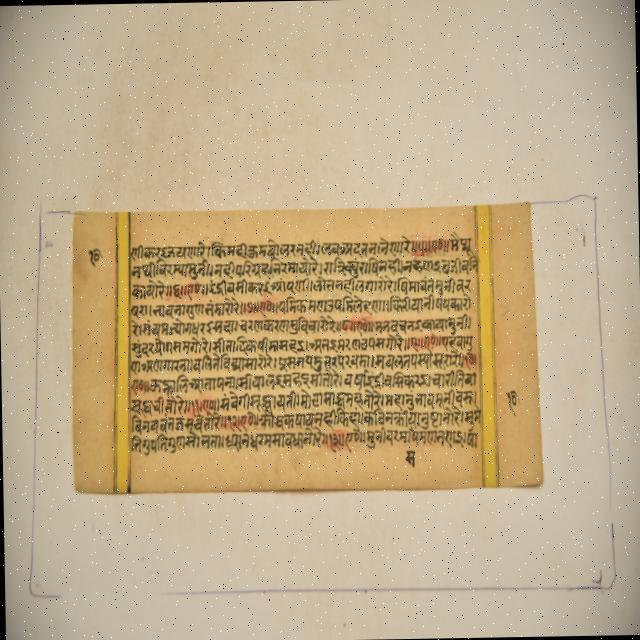text_paragraph: (74, 199, 541, 490)
